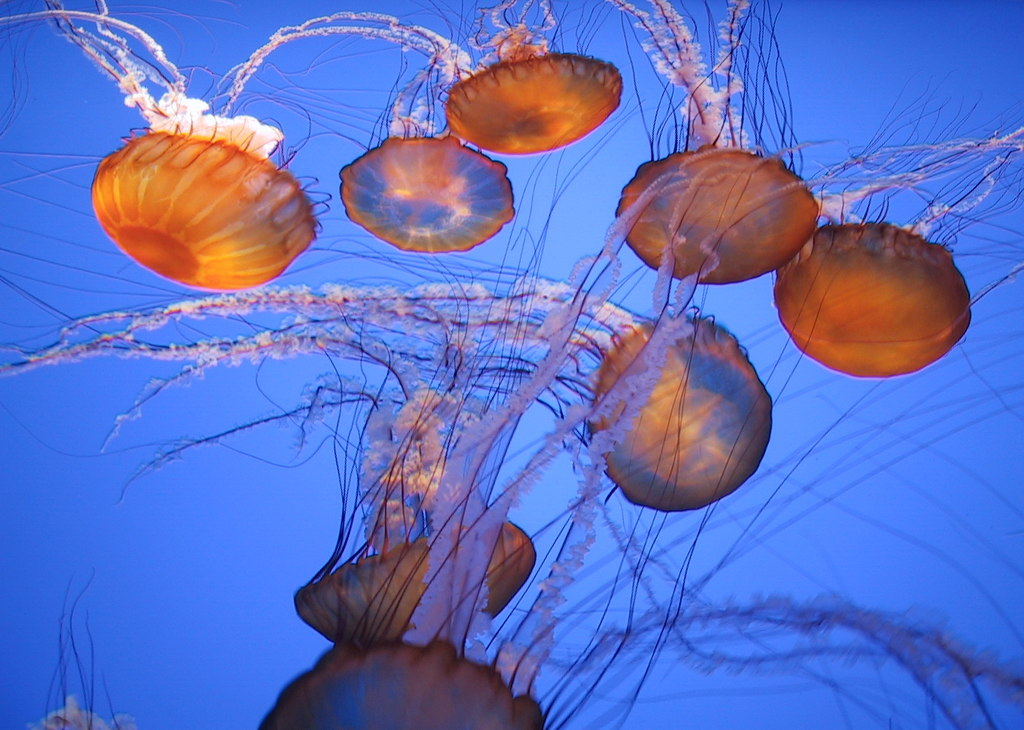Jellyfish: (0, 0, 1023, 729), (258, 296, 1023, 729), (1, 249, 771, 511), (285, 117, 613, 645), (0, 0, 470, 296), (767, 59, 1023, 385), (238, 0, 523, 259), (593, 0, 830, 284), (432, 0, 624, 153)
